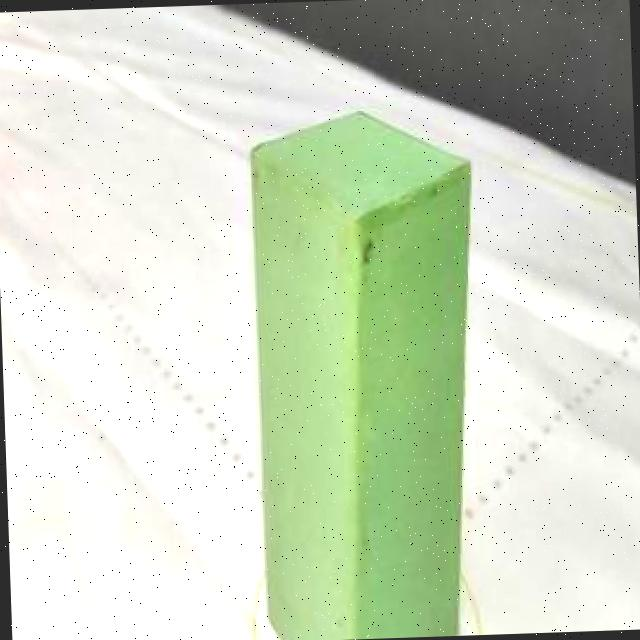greenbox: (243, 103, 488, 640)
